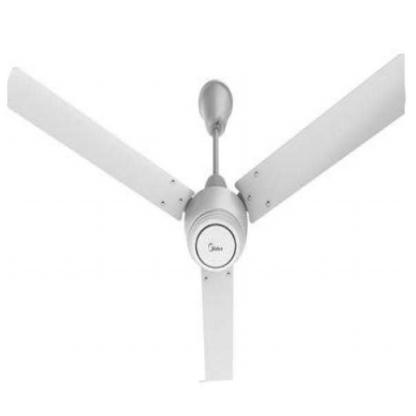ceiling-fan: (7, 54, 406, 381)
